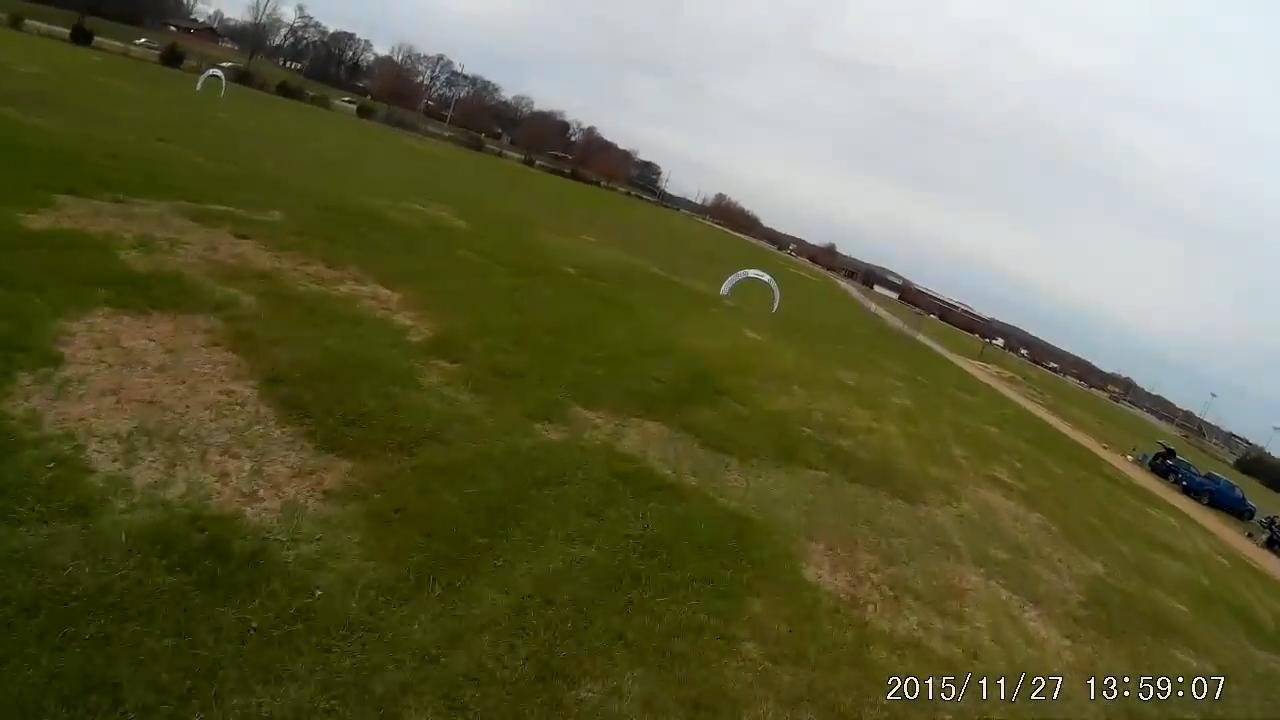gate: (717, 267, 781, 317)
